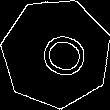O_W: (25, 24, 87, 82)
